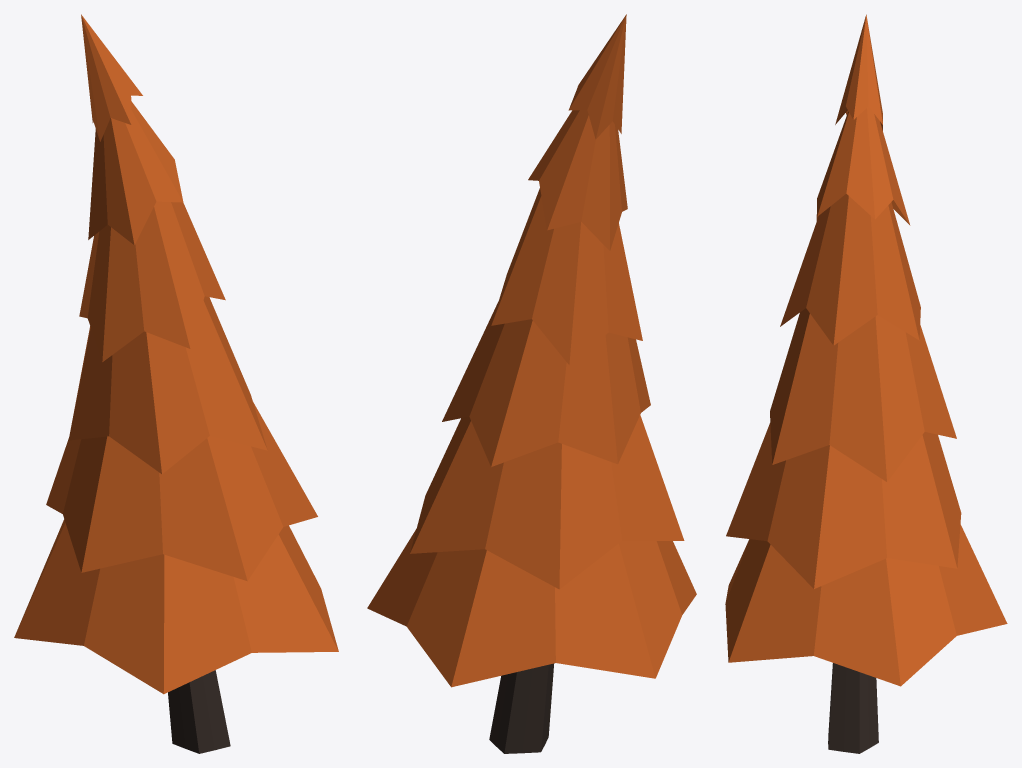
File: Pine_Tree_2_Autumn.fbx
3 views of the same model, side by side, from view 1: azimuth 30°, elevation 25°; view 2: azimuth 150°, elevation 25°; view 3: azimuth 270°, elevation 25° (orthographic). The views are drawn at different scales.
Parts seen in each view (by area): view 1: Pine_Tree_2_Autumn; view 2: Pine_Tree_2_Autumn; view 3: Pine_Tree_2_Autumn.
Boxes of the visible parts, x1,y1,x2,y2 form: Pine_Tree_2_Autumn: (14,14,338,753); Pine_Tree_2_Autumn: (367,14,696,753); Pine_Tree_2_Autumn: (725,14,1007,753).
Size of the model in its own units: 253 by 639 by 241.
